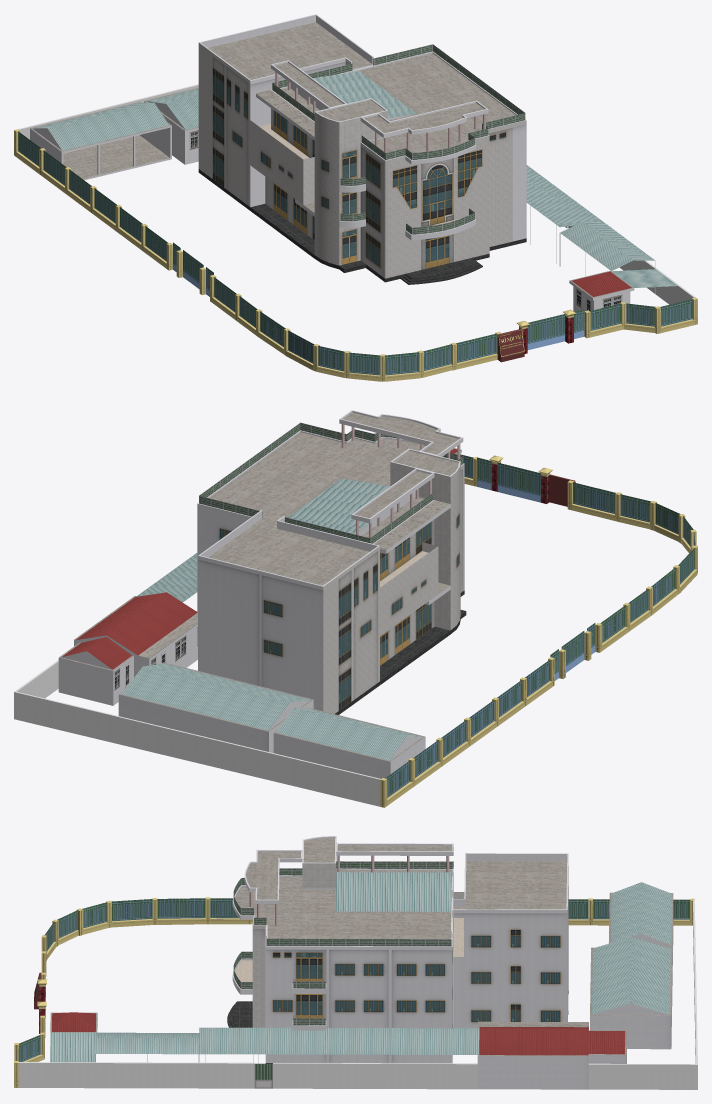
File: Sở Nội Vụ.glb
3 views of the same model, one above another, from view 1: azimuth 30°, elevation 25°; view 2: azimuth 150°, elevation 25°; view 3: azimuth 270°, elevation 25° (orthographic). The views are drawn at different scales.
Parts seen in each view (by area): view 1: BPH092_SoNoiVu_nhachinh, BPH092_SoNoiVu_HANGRAO; view 2: BPH092_SoNoiVu_nhachinh, BPH092_SoNoiVu_HANGRAO; view 3: BPH092_SoNoiVu_nhachinh, BPH092_SoNoiVu_HANGRAO.
Boxes of the visible parts, x1=… form: BPH092_SoNoiVu_nhachinh: x1=18, y1=14, x2=695, y2=311; BPH092_SoNoiVu_HANGRAO: x1=14, y1=129, x2=697, y2=381; BPH092_SoNoiVu_nhachinh: x1=14, y1=410, x2=466, y2=806; BPH092_SoNoiVu_HANGRAO: x1=380, y1=454, x2=697, y2=807; BPH092_SoNoiVu_nhachinh: x1=18, y1=836, x2=697, y2=1089; BPH092_SoNoiVu_HANGRAO: x1=14, y1=897, x2=694, y2=1087.
Bounding box in the file's own units: 41.77 × 16.91 × 72.06.
2 materials, 2 textured.
